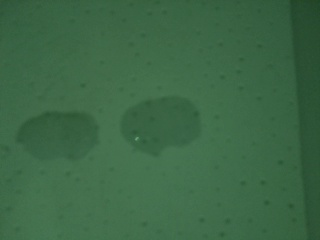Water_detected: (125, 94, 194, 152), (24, 110, 85, 162)
